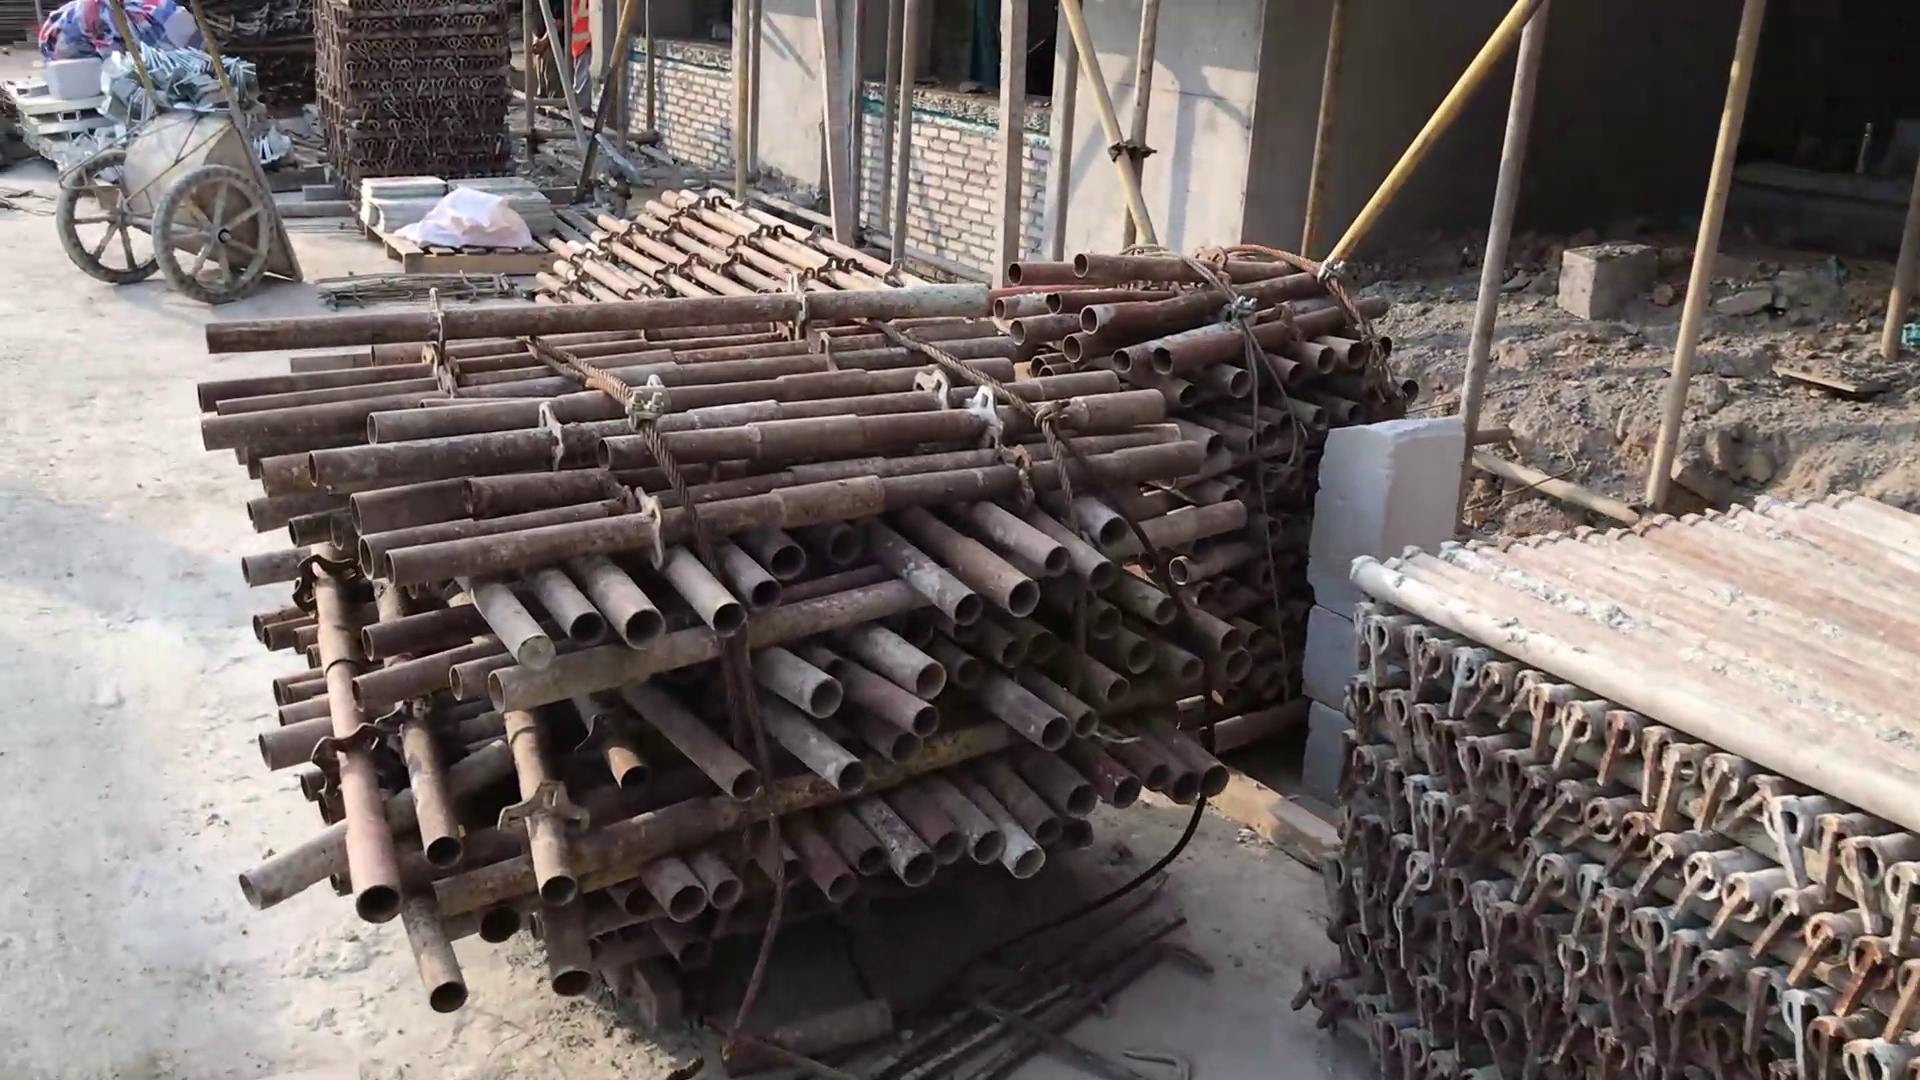handcart: (51, 1, 307, 305)
scaffold: (231, 257, 1419, 992), (1319, 488, 1920, 1079), (526, 179, 928, 305), (313, 1, 514, 183)
vest: (567, 1, 591, 61)
